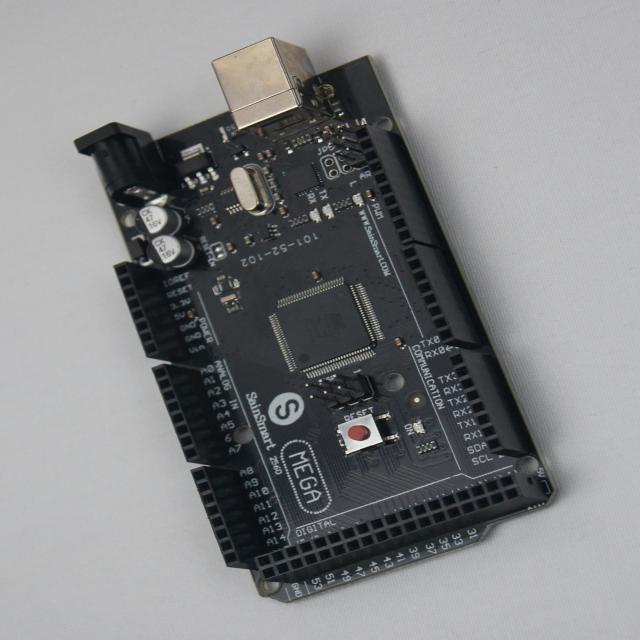Arduino Mega 2560 -Black-: (76, 39, 554, 601)
